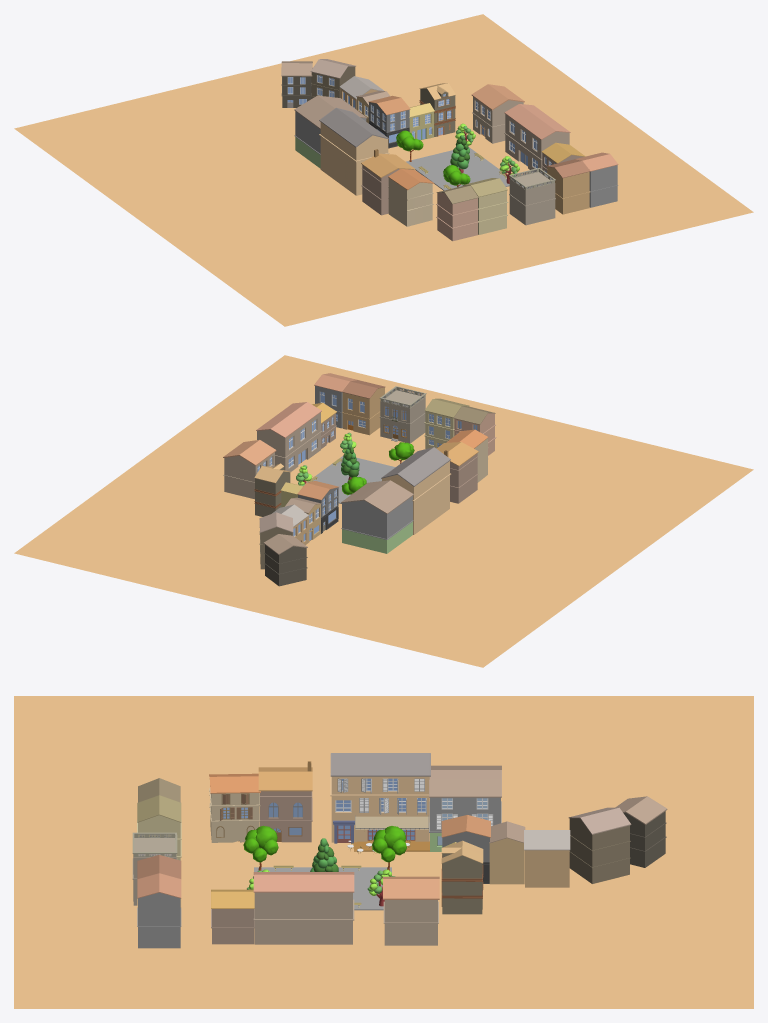
Rendered from Café Terrace at Night.fbx.
3 renders of one model, top to bottom at view 1: azimuth 30°, elevation 25°; view 2: azimuth 150°, elevation 25°; view 3: azimuth 270°, elevation 25°, orthographic. The views are drawn at different scales.
Parts seen in each view (by area): view 1: Cube, Cube.001, Cube.179, Cube.102, Cube.115, Cube.124, Cube.120, Cube.119, Cube.089, Cube.105, Cube.276, Cube.116 (+13 smaller); view 2: Cube, Cube.018, Cube.001, Cube.179, Cube.120, Cube.243, Cube.119, Cube.105, Cube.139, Cube.089, Cube.102, Cube.276 (+9 smaller); view 3: Cube, Cube.120, Cube.001, Cube.145, Cube.105, Cube.089, Cube.139, Cube.122, Cube.276, Cube.203, Cube.019, Cube.115 (+27 smaller).
Part boxes in pixels (x1=…): Cube: x1=14, y1=14, x2=753, y2=326; Cube.001: x1=319, y1=122, x2=389, y2=195; Cube.179: x1=509, y1=172, x2=555, y2=225; Cube.102: x1=406, y1=147, x2=509, y2=190; Cube.115: x1=388, y1=178, x2=433, y2=226; Cube.124: x1=436, y1=192, x2=478, y2=241; Cube.120: x1=504, y1=114, x2=569, y2=171; Cube.119: x1=547, y1=167, x2=590, y2=214; Cube.089: x1=319, y1=107, x2=388, y2=147; Cube.105: x1=472, y1=97, x2=523, y2=143; Cube.276: x1=504, y1=104, x2=570, y2=139; Cube.116: x1=464, y1=185, x2=508, y2=234; Cube: x1=14, y1=355, x2=753, y2=667; Cube.018: x1=341, y1=496, x2=413, y2=539; Cube.001: x1=382, y1=461, x2=451, y2=534; Cube.179: x1=379, y1=390, x2=425, y2=443; Cube.120: x1=257, y1=412, x2=322, y2=471; Cube.243: x1=264, y1=545, x2=307, y2=586; Cube.119: x1=342, y1=387, x2=384, y2=435; Cube.105: x1=223, y1=452, x2=274, y2=499; Cube.139: x1=341, y1=480, x2=413, y2=514; Cube.089: x1=381, y1=447, x2=450, y2=486; Cube.102: x1=307, y1=455, x2=395, y2=503; Cube.276: x1=256, y1=402, x2=321, y2=437; Cube: x1=14, y1=696, x2=753, y2=1008; Cube.120: x1=253, y1=892, x2=354, y2=944; Cube.001: x1=330, y1=773, x2=429, y2=842; Cube.145: x1=569, y1=818, x2=630, y2=883; Cube.105: x1=383, y1=900, x2=438, y2=945; Cube.089: x1=330, y1=753, x2=430, y2=776; Cube.139: x1=429, y1=765, x2=501, y2=797; Cube.122: x1=137, y1=892, x2=181, y2=948; Cube.276: x1=253, y1=872, x2=354, y2=892; Cube.203: x1=442, y1=853, x2=482, y2=914; Cube.019: x1=260, y1=791, x2=312, y2=842; Cube.115: x1=209, y1=788, x2=260, y2=842.
Size of the model in its own units: 19701 by 2451 by 19701.
